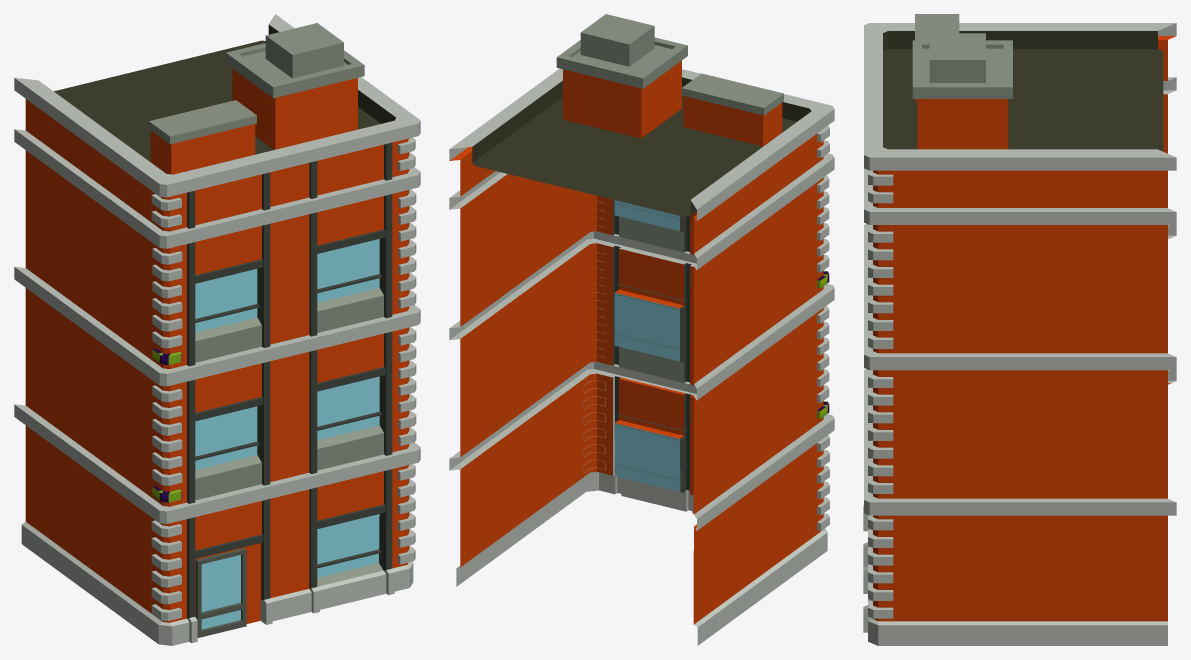
The model's file is House3.2.fbx.
3 renders of one model, left to right at view 1: azimuth 30°, elevation 25°; view 2: azimuth 150°, elevation 25°; view 3: azimuth 270°, elevation 25°, orthographic. The views are drawn at different scales.
Visible parts, largest first — view 1: House2.001; view 2: House2.001; view 3: House2.001.
Boxes of the visible parts, left/top/right/bottom form: House2.001: left=14, top=14, right=420, bottom=645; House2.001: left=449, top=14, right=834, bottom=645; House2.001: left=863, top=14, right=1176, bottom=645.
Bounding box in the file's own units: 795 × 1550 × 782.
Materials: 1 (1 with a texture image).
